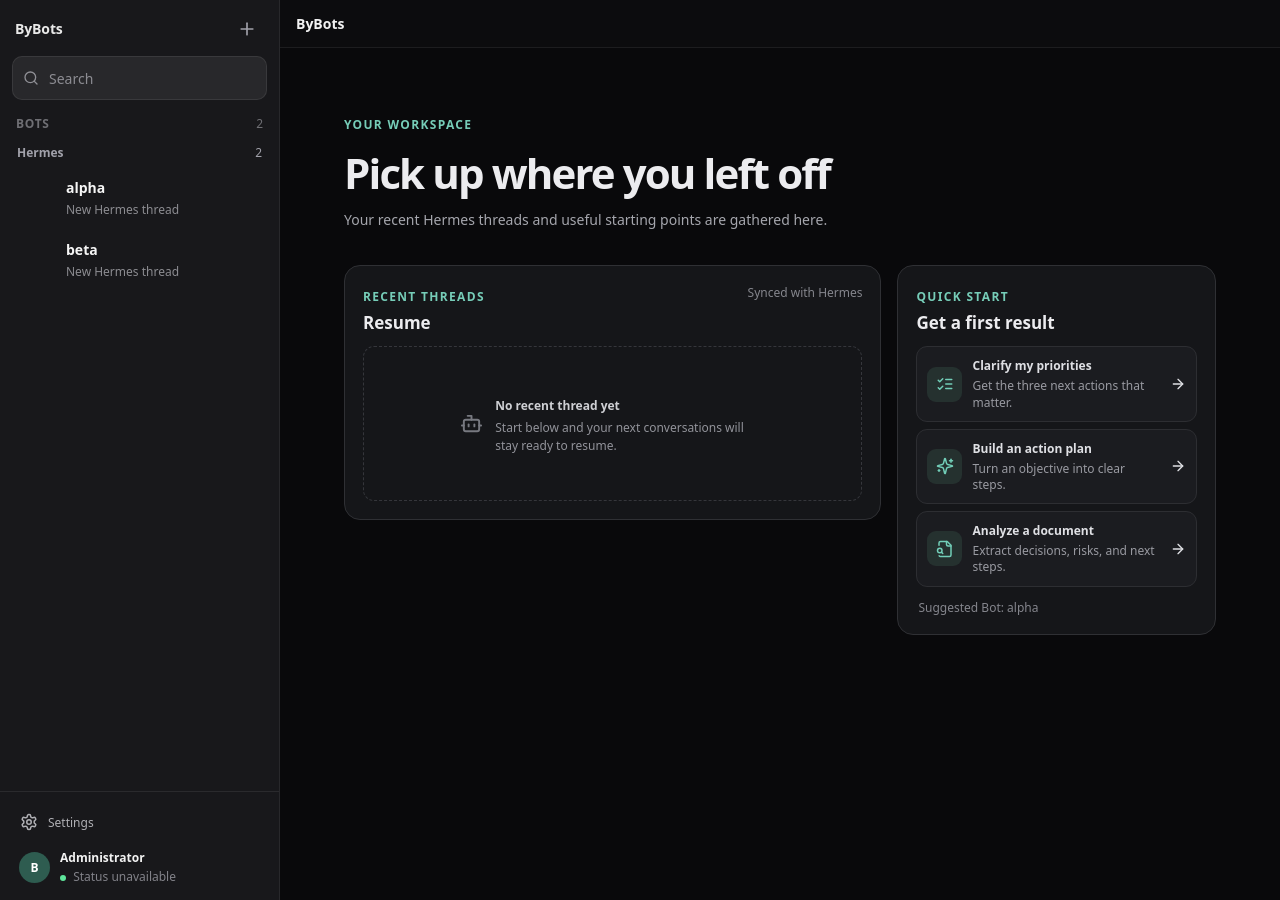
Test: conversation request ownership › restores a failed request to its own bot without exposing its error in another chat
Click the button "alpha New Hermes thread" at (140, 198), box [8,167,271,229]
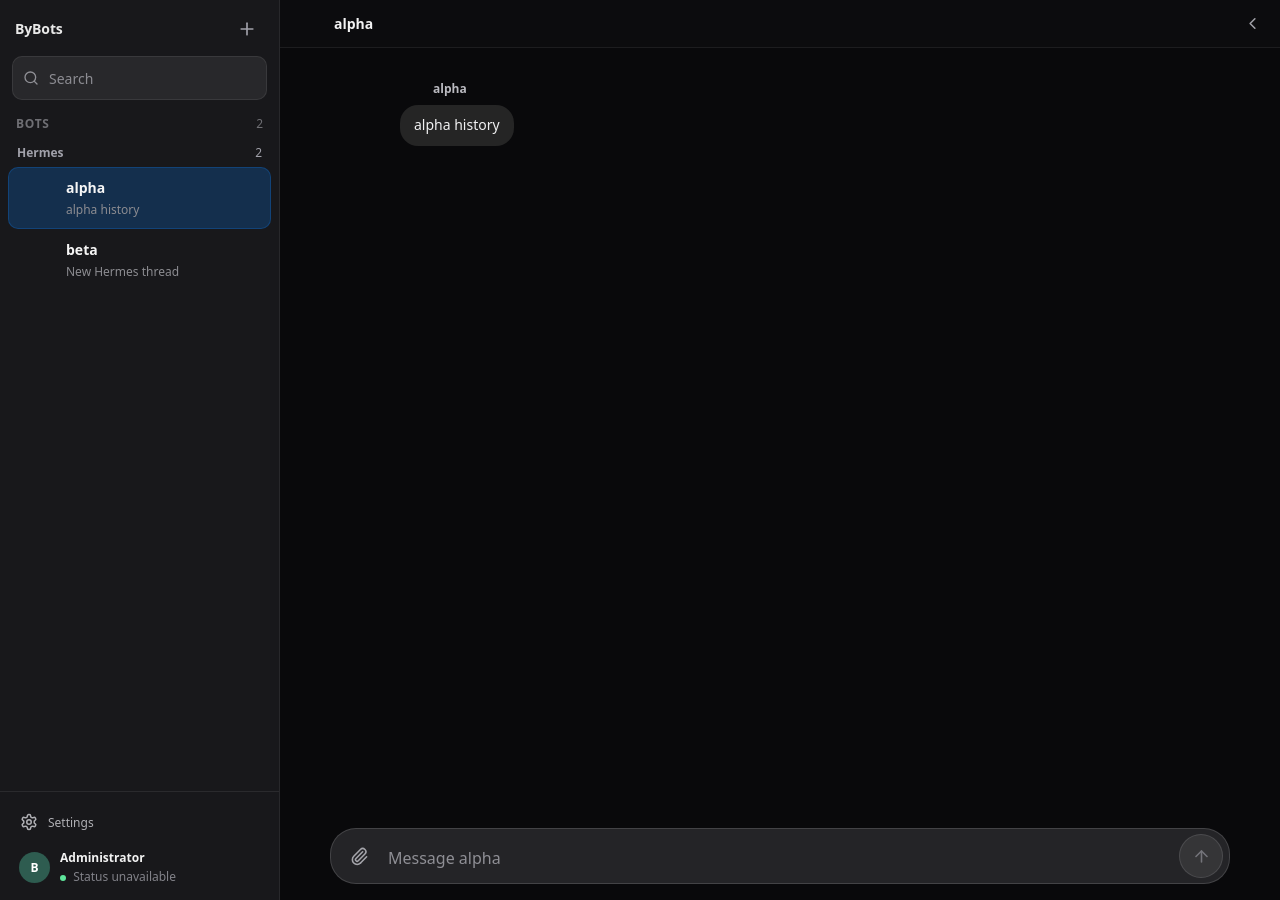
Type "First request" into the text box labelled "Message" at (780, 857), box [384,836,1176,878]
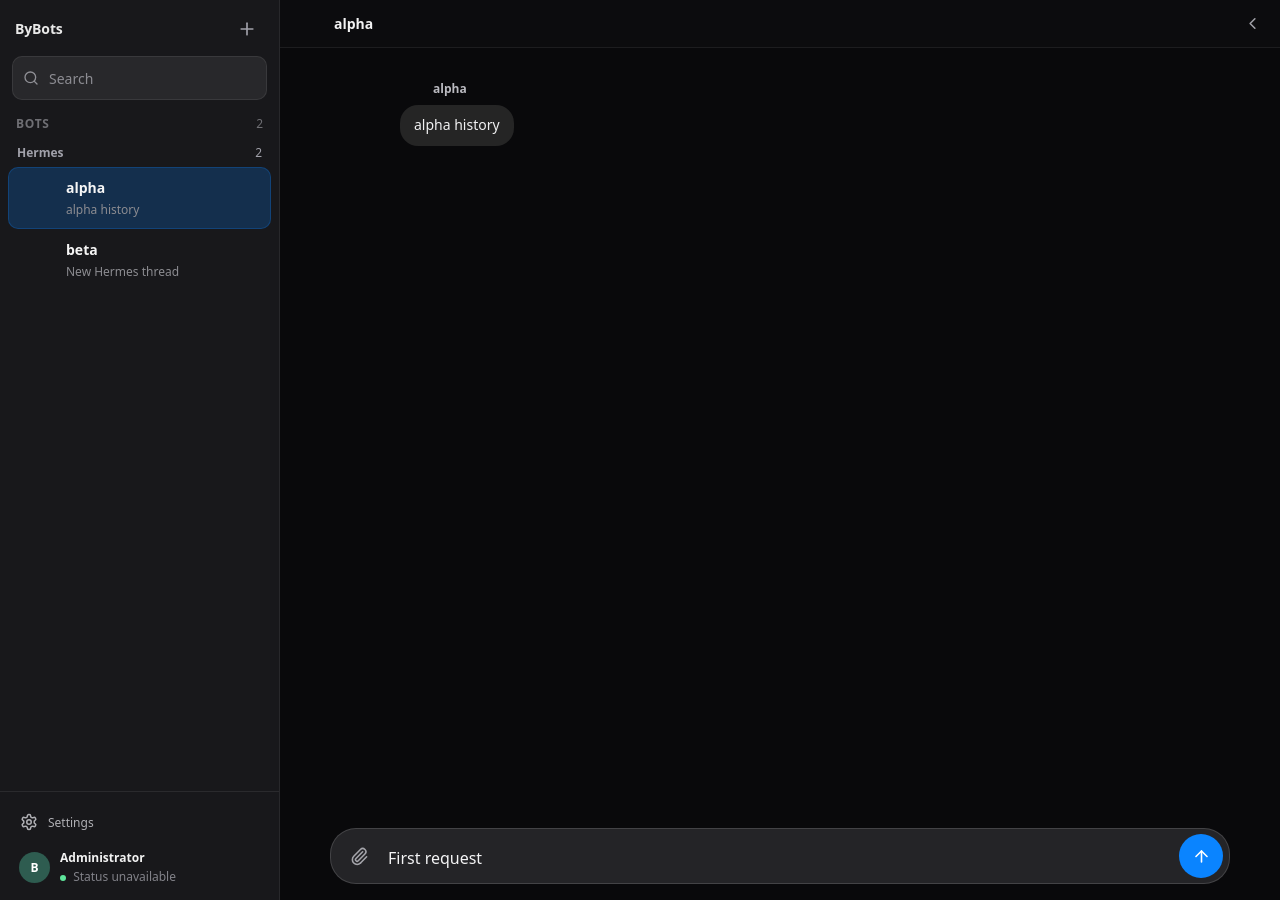
Click the button named "Send" at (1201, 856), box [1179,834,1223,878]
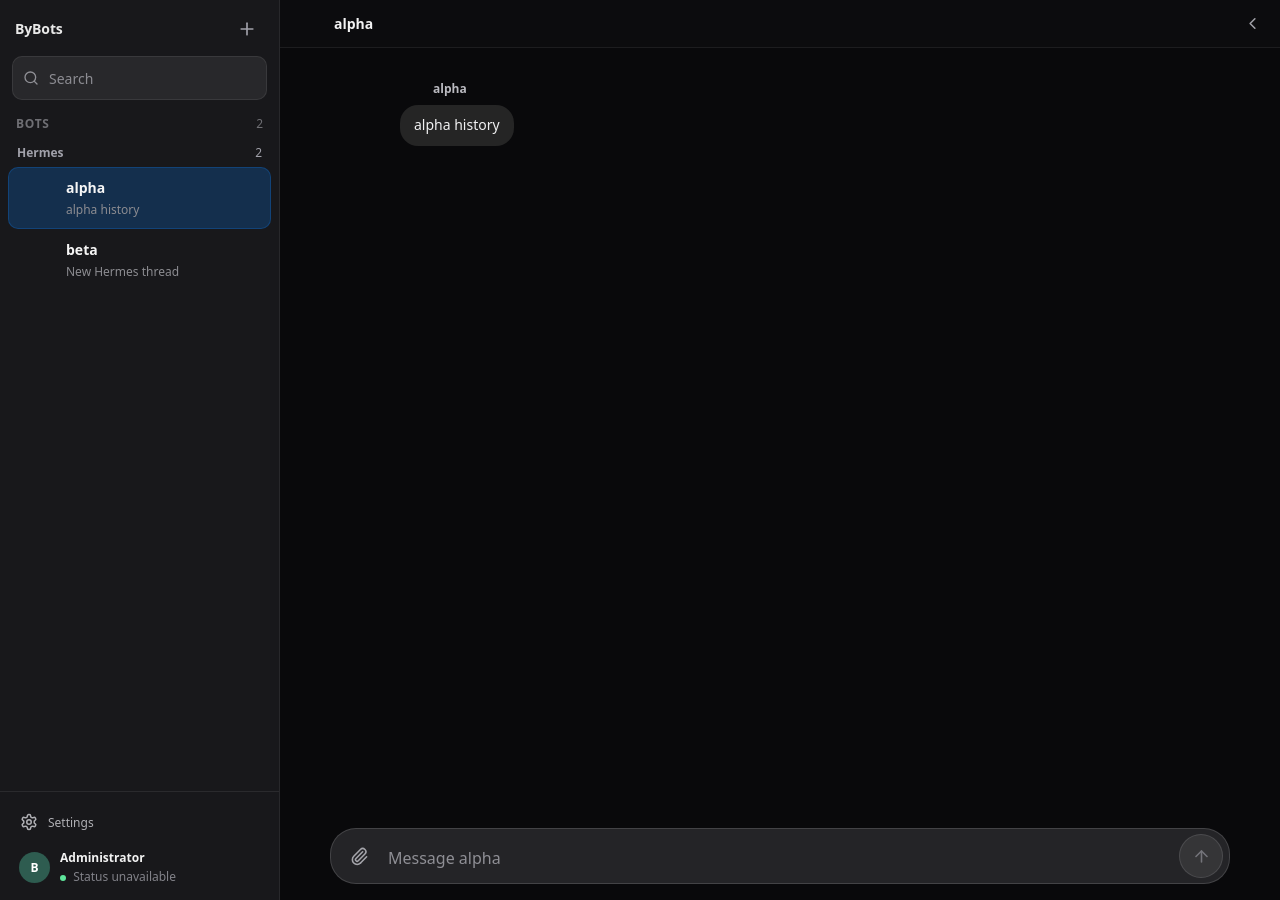
Click the button "beta New Hermes thread" at (140, 260), box [8,229,271,291]
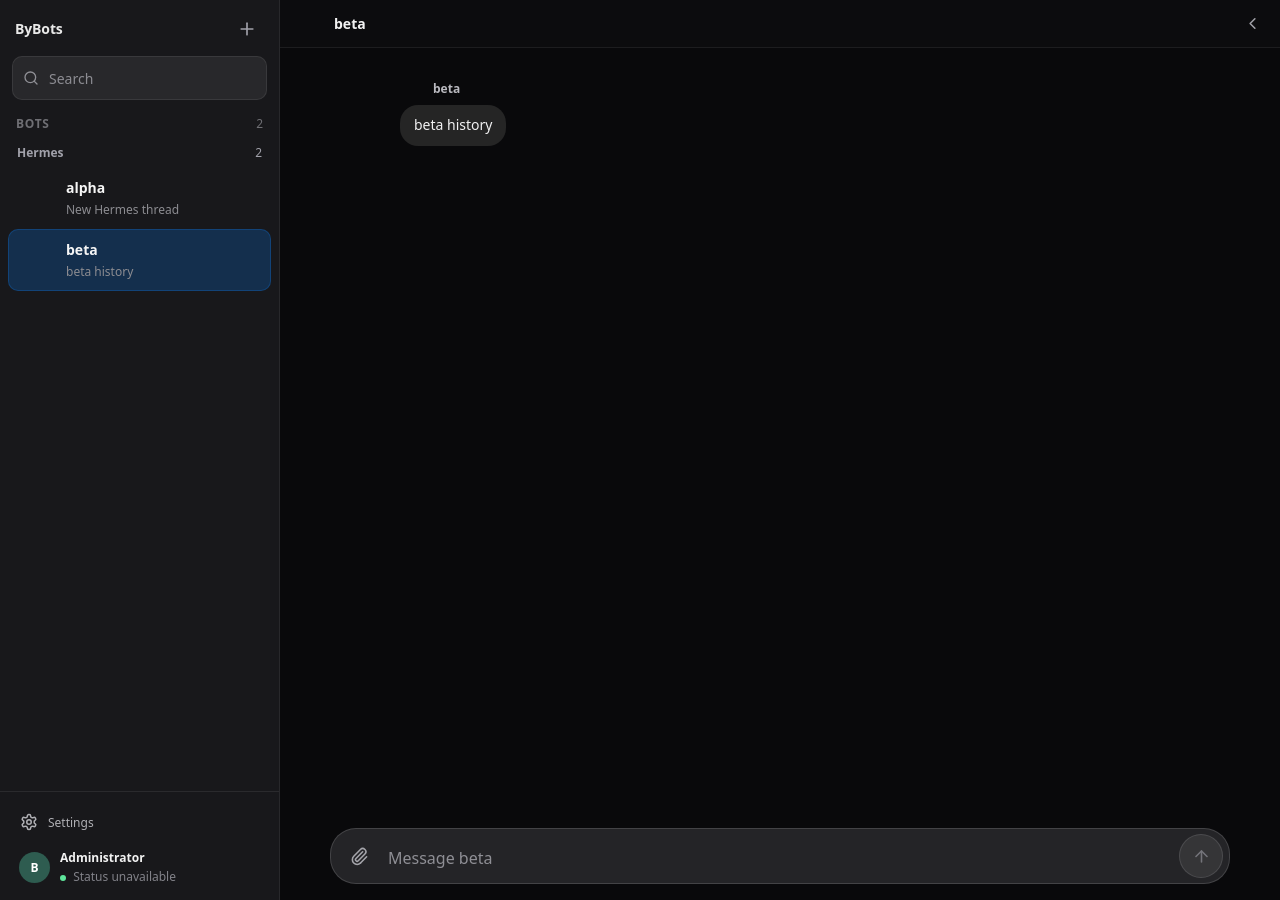
Type "Beta draft" into the text box labelled "Message" at (780, 857), box [384,836,1176,878]
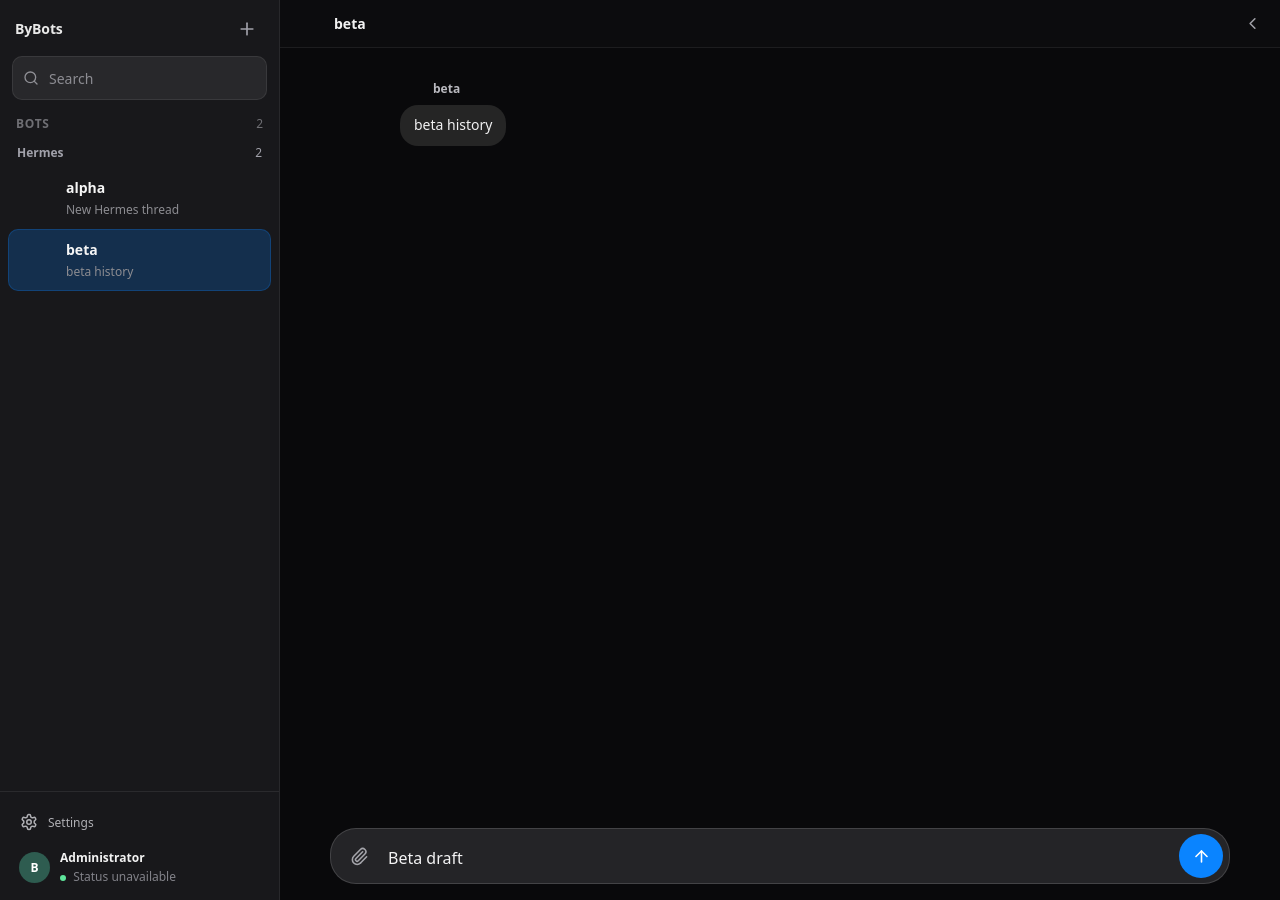
Click the button "alpha New Hermes thread" at (140, 198), box [8,167,271,229]
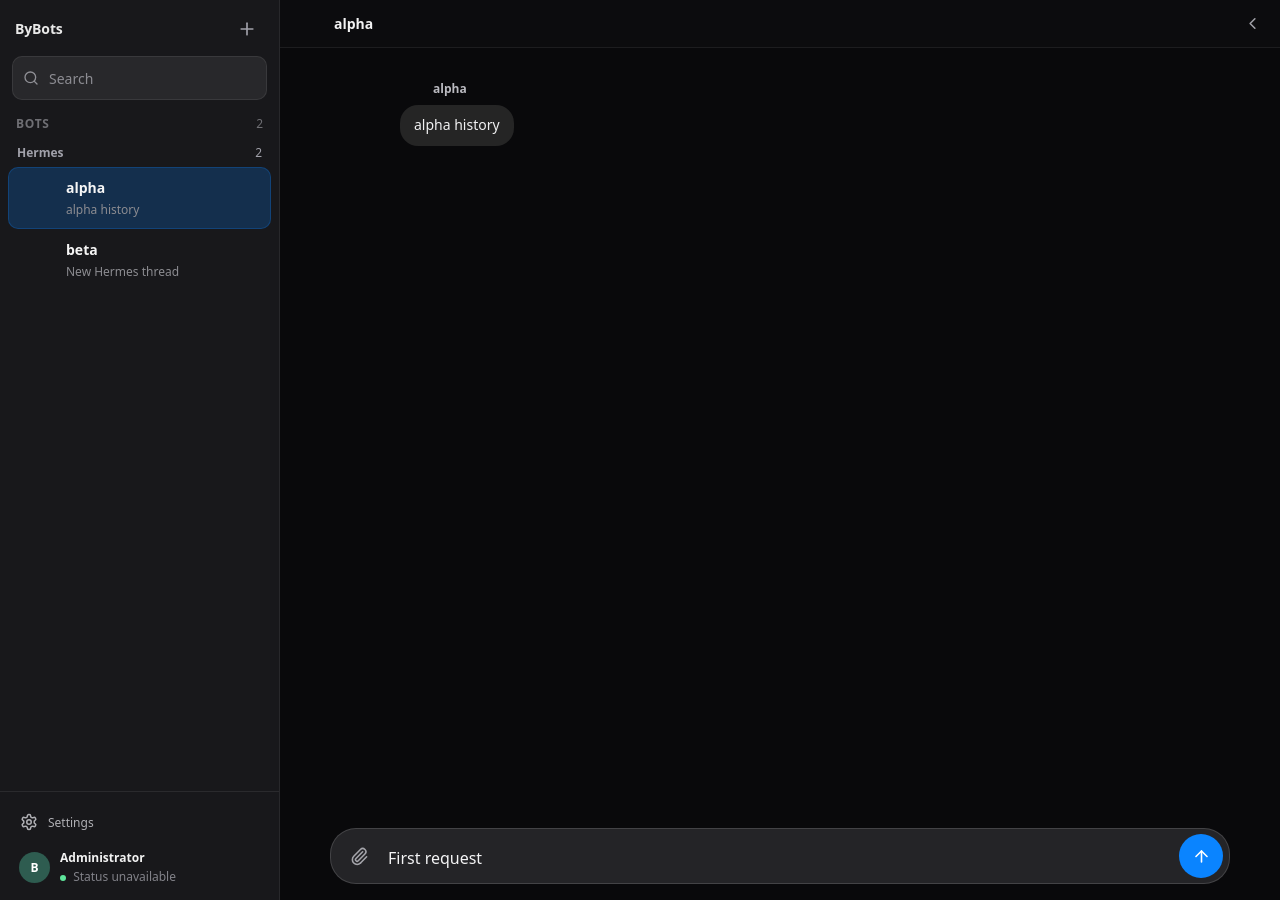
Check: the text box named "Message" holds "First request", box [384,836,1176,878]
